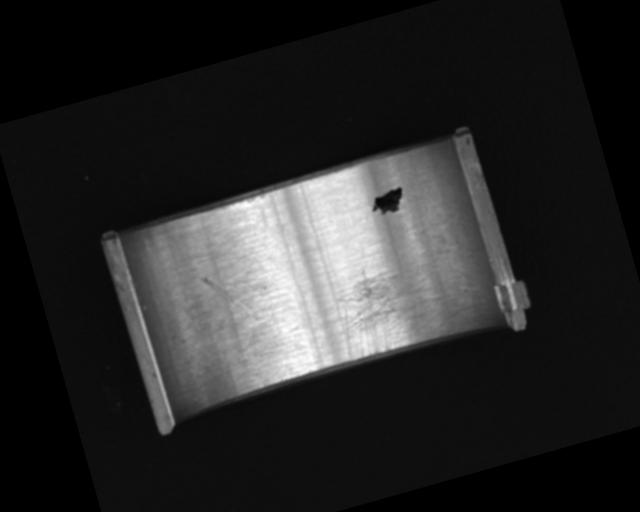blot: (366, 185, 408, 218)
nick: (199, 266, 256, 332)
scratch: (327, 248, 464, 365)
